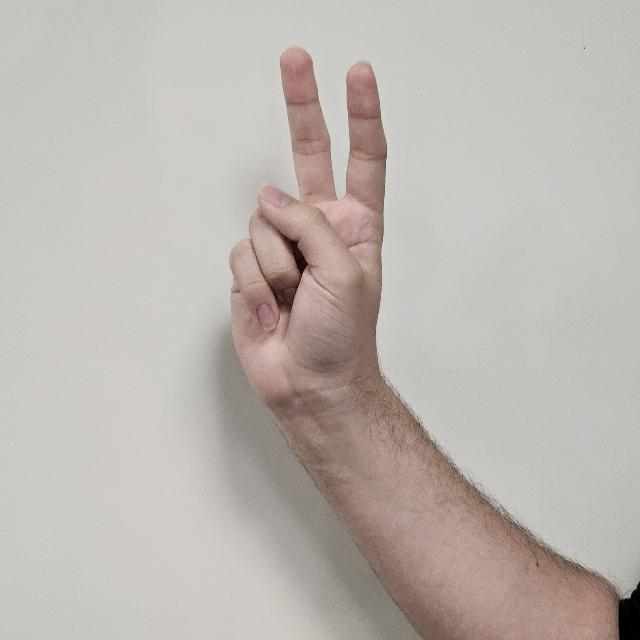Triangulo: (228, 48, 406, 430)
